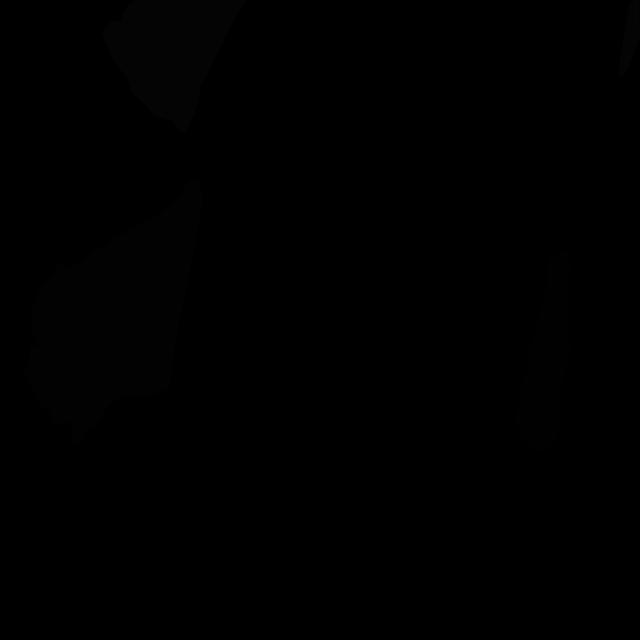cardboard: (22, 179, 204, 444)
rigid_plastic: (514, 250, 572, 452)
soft_plastic: (102, 0, 246, 133), (618, 0, 640, 77)
